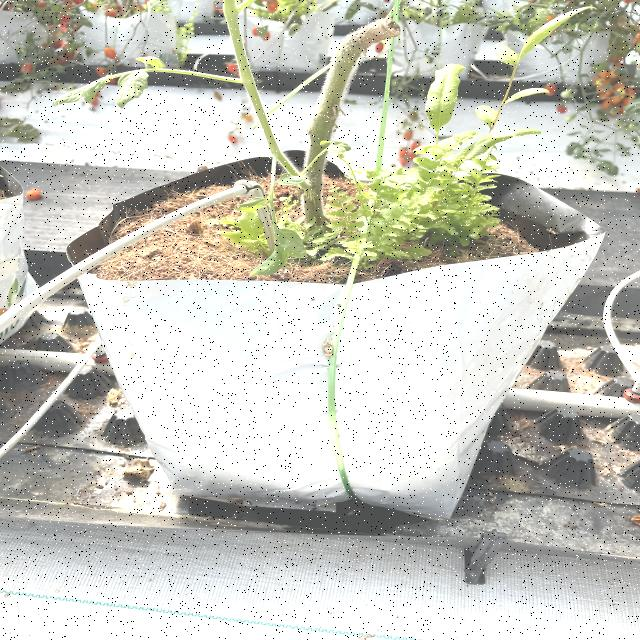Soilbag: (70, 148, 605, 520)
plant: (50, 0, 424, 240)
